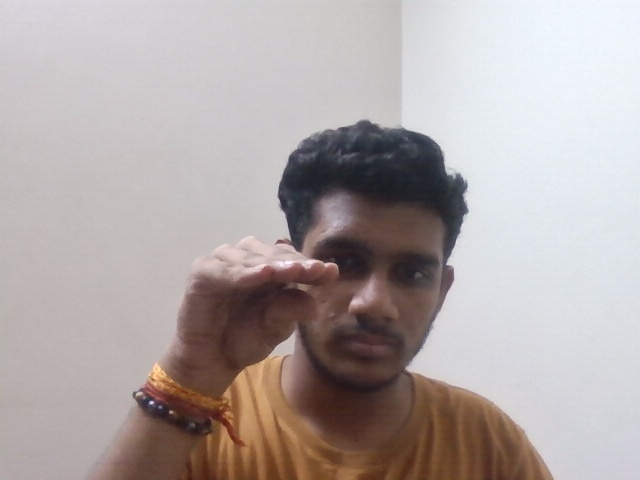no: (132, 230, 366, 394)
